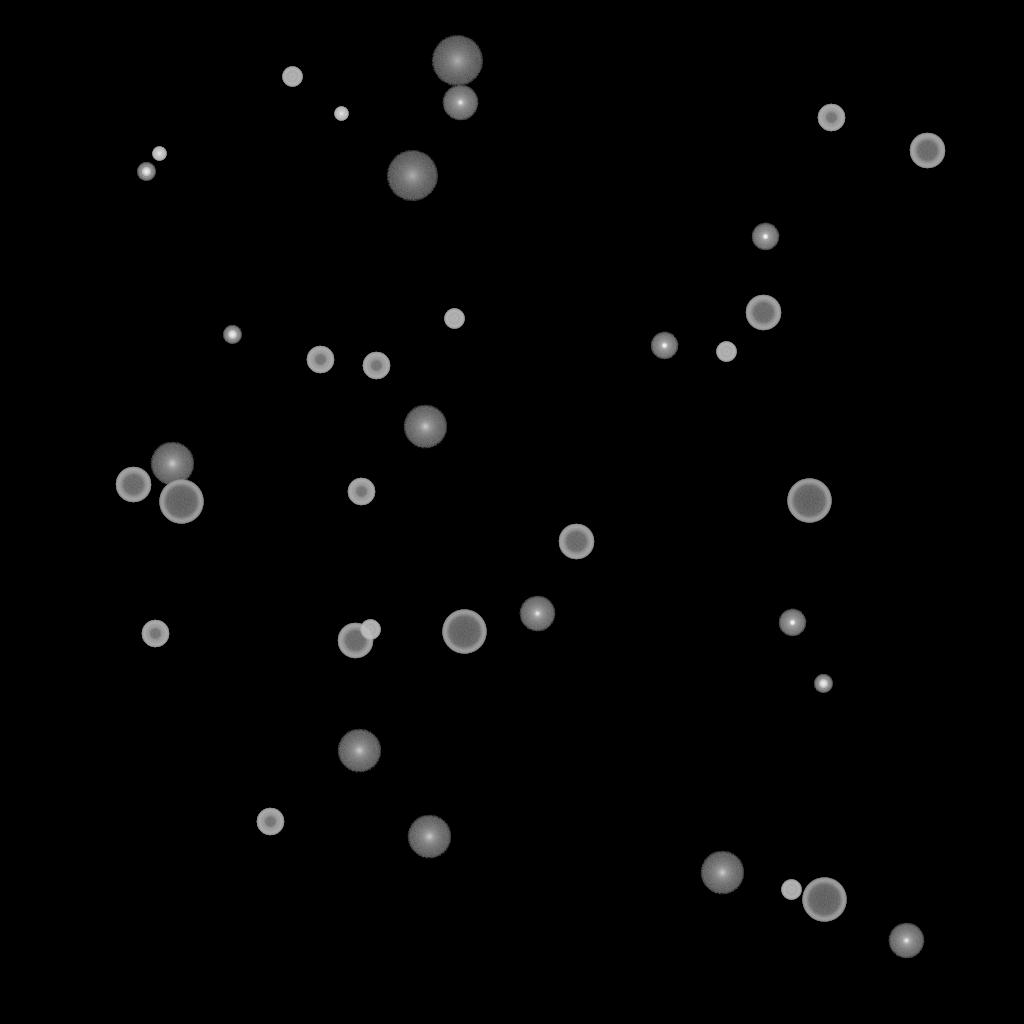depth:-10: (650, 332, 678, 360), (778, 609, 806, 637), (751, 223, 779, 251)
depth:-20: (223, 326, 241, 344), (814, 675, 832, 693), (137, 163, 155, 181)
depth:-30: (334, 107, 348, 121), (152, 147, 166, 161)
depth:-40: (360, 620, 380, 640), (781, 880, 801, 900), (282, 67, 302, 87), (444, 309, 464, 329), (716, 342, 736, 362)
depth:-50: (256, 808, 284, 836), (362, 352, 390, 380), (141, 620, 169, 648), (347, 478, 375, 506), (817, 104, 845, 132), (306, 346, 334, 374)
depth:-60: (558, 524, 594, 560), (909, 133, 945, 169), (115, 467, 151, 503), (745, 295, 781, 331), (337, 623, 373, 659)
depth:-70: (442, 610, 486, 654), (802, 878, 846, 922), (159, 480, 203, 524), (787, 479, 831, 523)
depth:0: (888, 923, 924, 959), (519, 596, 555, 632), (442, 85, 478, 121)
depth:10: (337, 729, 381, 773), (407, 815, 451, 859), (700, 851, 744, 895), (150, 442, 194, 486), (403, 405, 447, 449)
depth:20: (386, 151, 438, 201), (431, 36, 483, 86)
